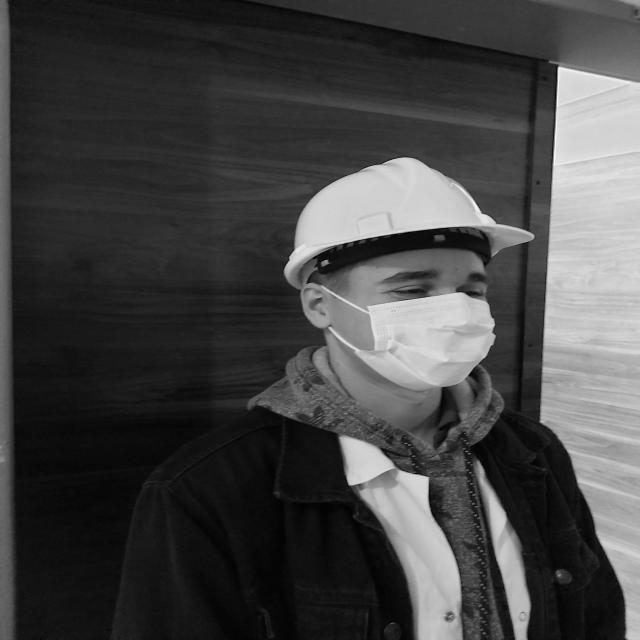construction helmet: (284, 159, 534, 289)
